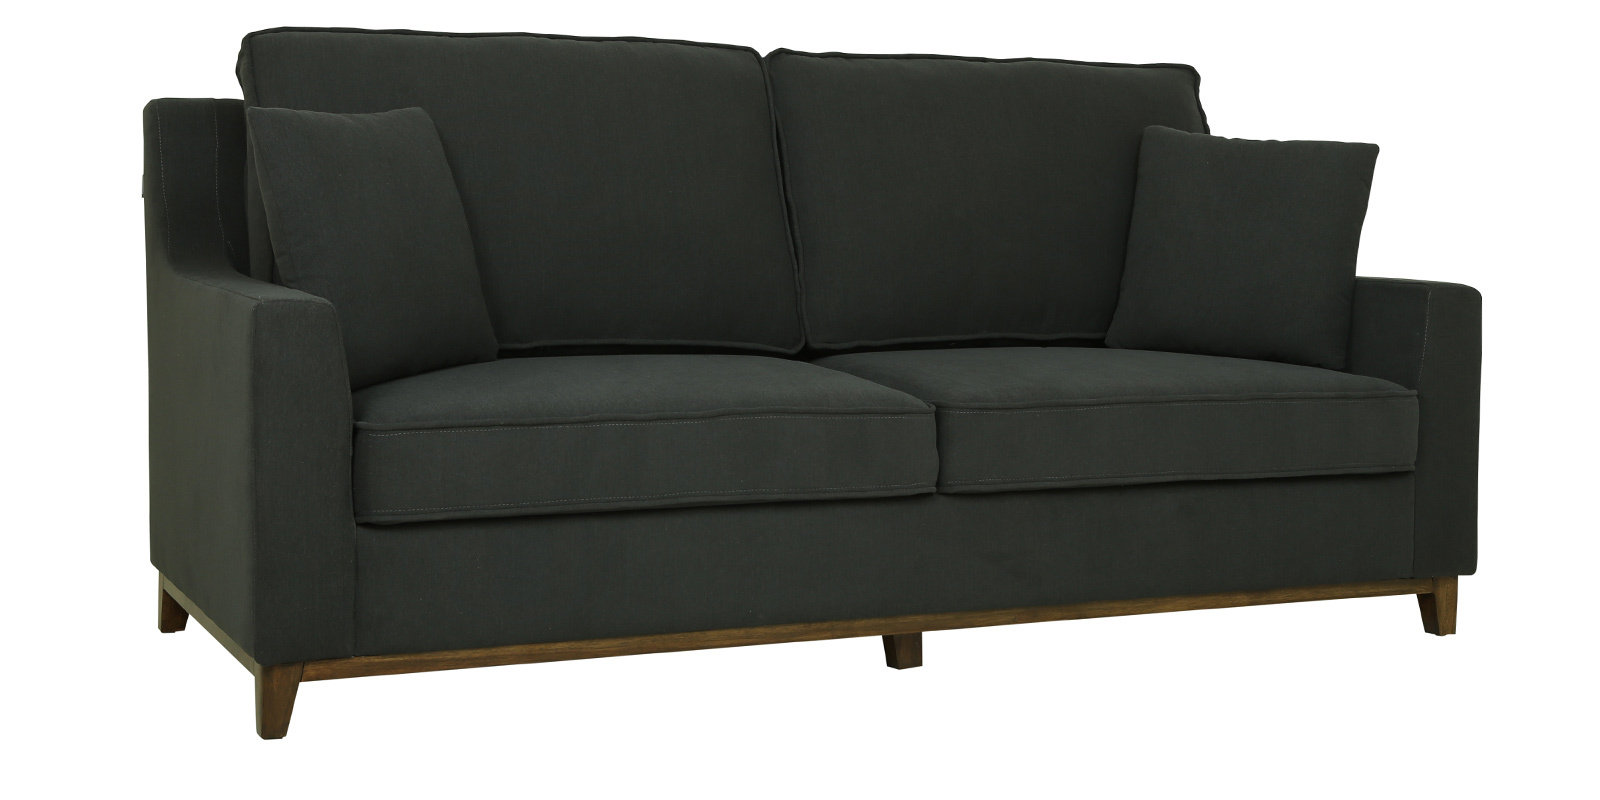Diego Three Seater Sofa in Charcoal Grey Colour by CasaCraft: (99, 13, 1514, 713)
